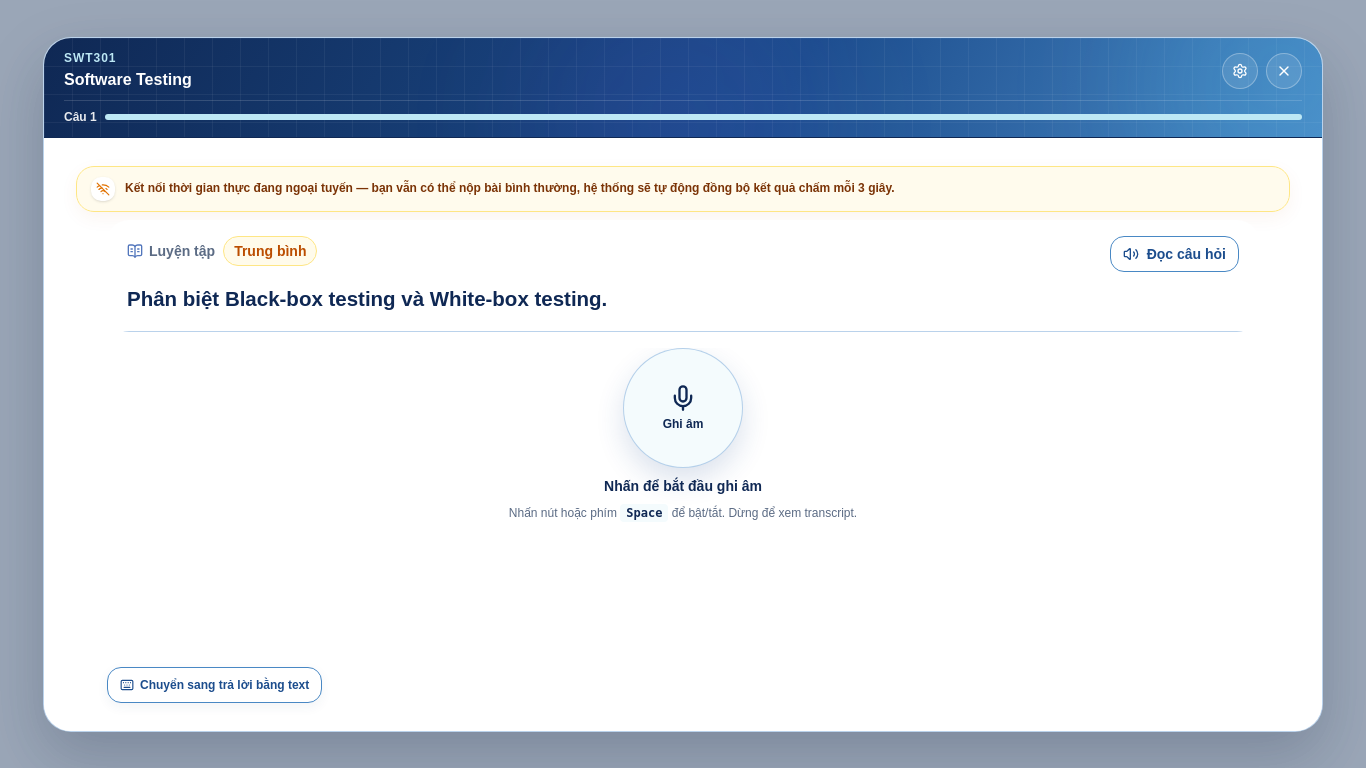
Scenario: PracticeSessionPage M3 fixes › ignores Space shortcut on nested interactive controls and open ConfirmDialog
Earlier steps of the test are not shown.
Later steps or results of the test are not shown.
Step 1. Click the button named "Kết thúc phiên luyện tập" → (1284, 70), box [1266,52,1302,88]
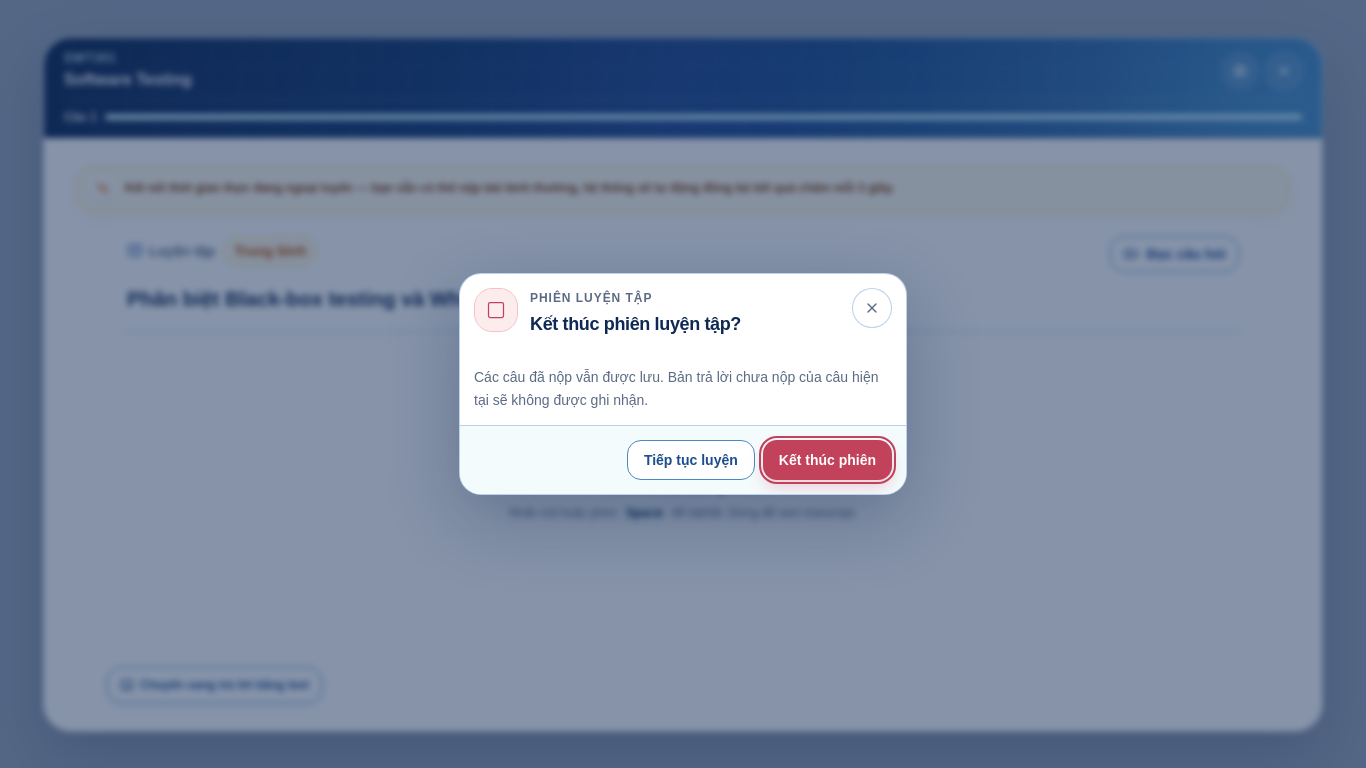
Now the heading "Kết thúc phiên luyện tập?" is shown, box [530,314,741,334]
